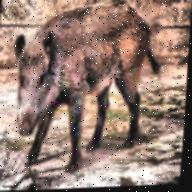boar: (0, 0, 164, 174)
